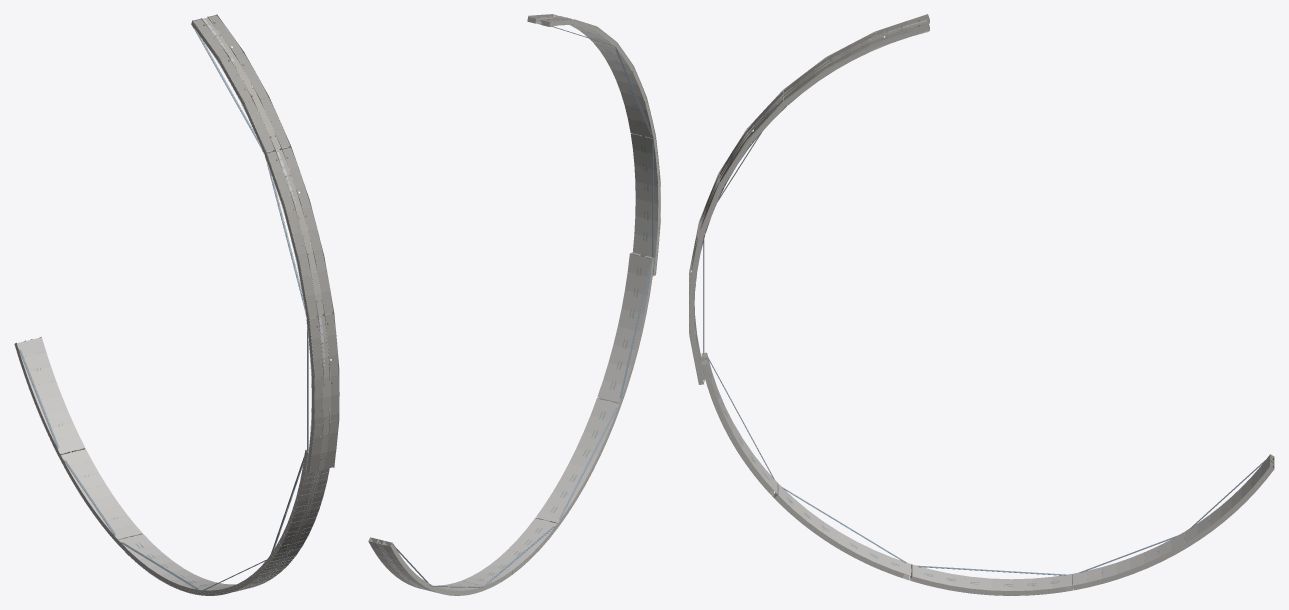
File: xuanshu_interior_C22.glb
3 renders of one model, left to right at view 1: azimuth 30°, elevation 25°; view 2: azimuth 150°, elevation 25°; view 3: azimuth 270°, elevation 25°, orthographic. The views are drawn at different scales.
Visible parts, largest first — view 1: UNIT-FOD-003, UNIT-HAB-008, UNIT-HAB-007; view 2: UNIT-HAB-007, UNIT-FOD-003, UNIT-HAB-008; view 3: UNIT-HAB-007, UNIT-FOD-003, UNIT-HAB-008.
Part boxes in pixels (x1,y1,x2,y2): UNIT-FOD-003: [191, 14, 339, 473]; UNIT-HAB-008: [14, 337, 142, 543]; UNIT-HAB-007: [117, 449, 329, 595]; UNIT-HAB-007: [462, 252, 654, 590]; UNIT-FOD-003: [527, 14, 660, 276]; UNIT-HAB-008: [368, 537, 483, 595]; UNIT-HAB-007: [701, 352, 1072, 595]; UNIT-FOD-003: [689, 14, 929, 384]; UNIT-HAB-008: [1072, 454, 1274, 590].
Bounding box in the file's own units: 17.31 × 385 × 358.
